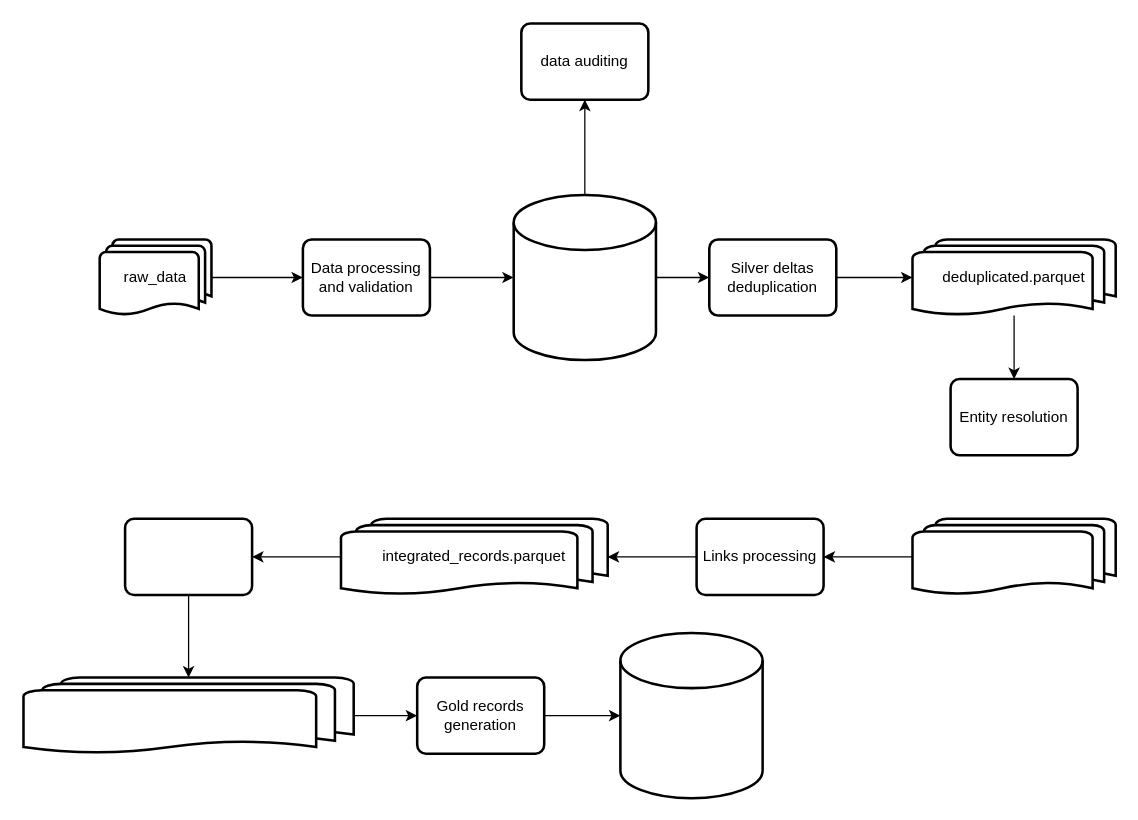
The diagram is 1138 pixels wide and 820 high, and some of its shapes have lost their labels. The shapes that lost their labels are listed below. From the top down, each one's box as (x1, y1, x2, y2) in pixels, then its label:
(512, 193, 657, 361): Silver delta tables *.delta
(123, 517, 253, 596): Integrated records deduplication
(911, 517, 1116, 596): links.parquet
(22, 676, 354, 754): dedup_integrated_records.parquet
(618, 631, 763, 799): Gold delta tables anchors.delta id_bridge.delta gold_records.delta
